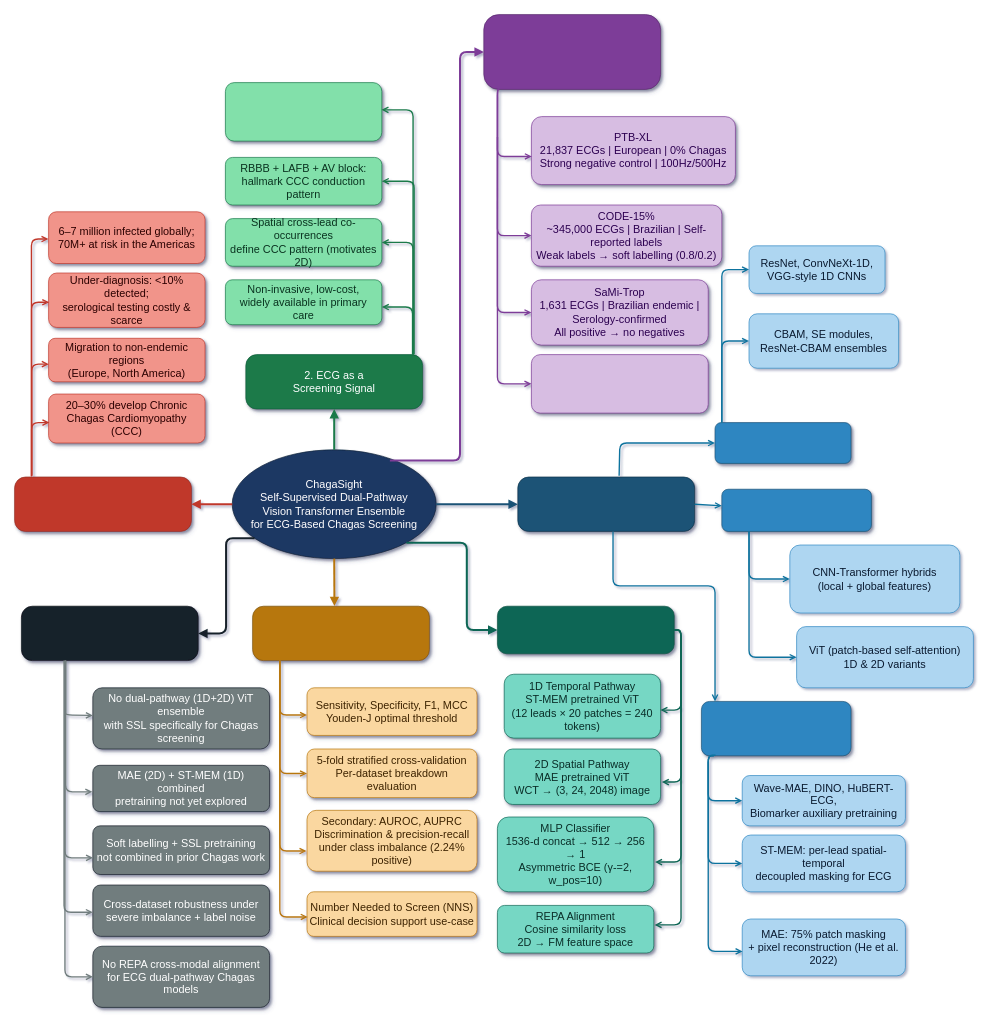
Some shapes in this 989 by 1028 pixel diagram are drawn without their labels. Here are the shapes that lost their labels. From the top down, the centre of each, then its label:
pixel 572 52: 3. Data Realities PTB-XL | CODE-15% | SaMi-Trop
pixel 304 112: Ventricular ectopy, AF, repolarisation abnormalities
pixel 620 384: Severe class imbalance: ~2.24% positive across combined training set
pixel 783 443: CNN-Based Models
pixel 103 505: 1. Chagas Disease Epidemiology & Diagnosis
pixel 606 505: 4. Modelling Approaches
pixel 797 511: Transformer & ViT Models
pixel 110 634: 6. Identified Research Gaps (Novelty of ChagaSight)
pixel 341 634: 5. Evaluation & Clinical Utility
pixel 586 631: ChagaSight Architecture
pixel 776 729: Self-Supervised Learning (SSL)
